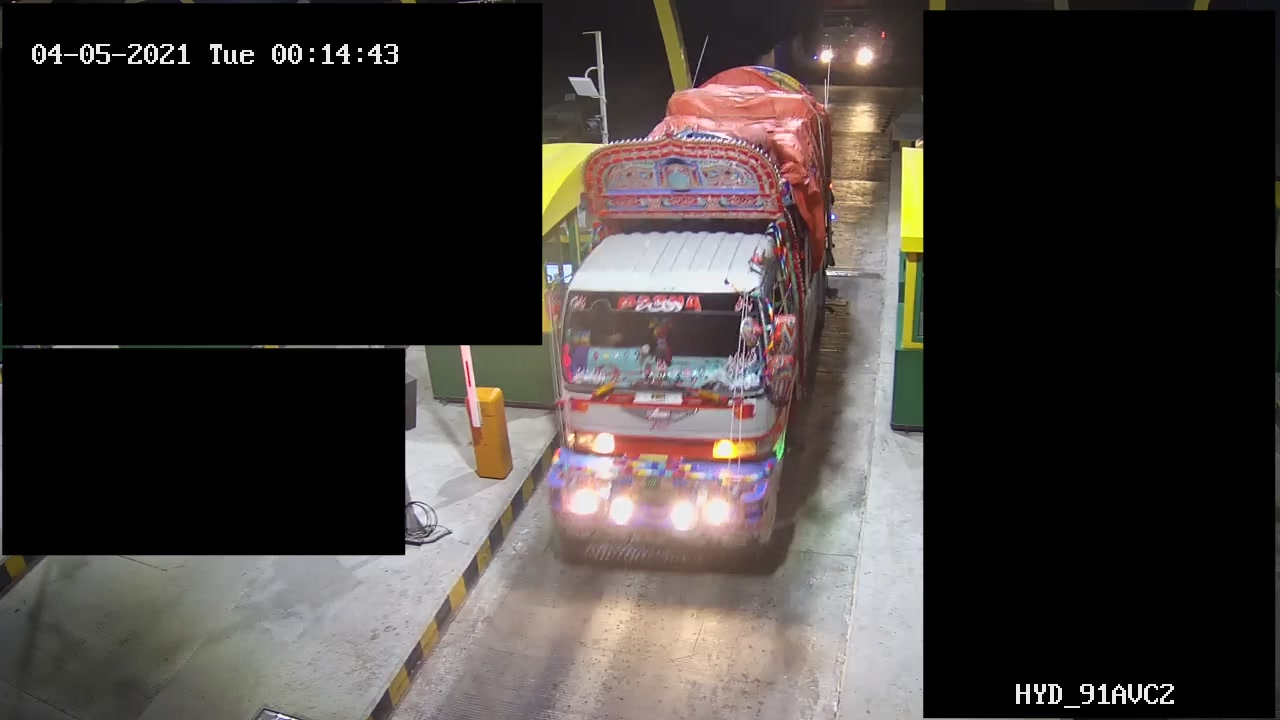F5: (553, 61, 829, 553)
